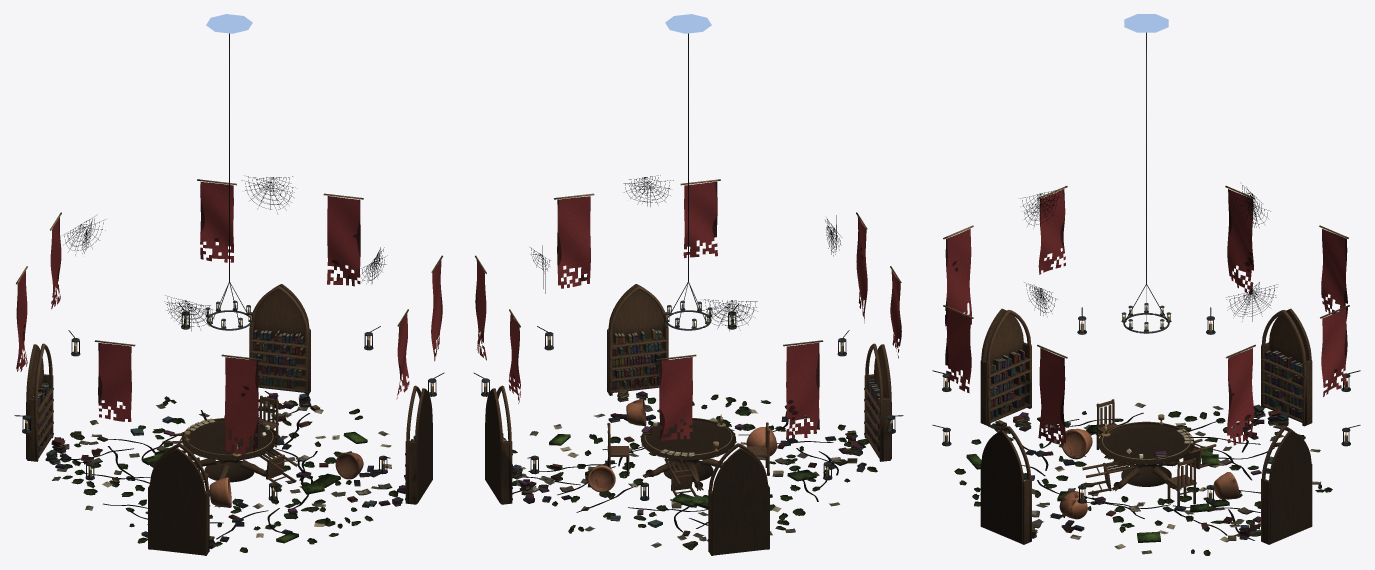
The model's file is SP04_Objetos (1).glb.
The picture shows the model from 3 angles, left to right: view 1: azimuth 30°, elevation 25°; view 2: azimuth 150°, elevation 25°; view 3: azimuth 270°, elevation 25°; orthographic projection.
Parts seen in each view (by area): view 1: OBJ_Obj_29_0, OBJ_Obj_28_0, OBJ_Obj_25_0, OBJ_Obj_26_1, OBJ_Obj_28_1, OBJ_Obj_27_1, OBJ_Obj_27_0, OBJ_Obj_26_0, OBJ_Teia_30_0, OBJ_EMIS_Oculo_RoofPanels, OBJ_Obj_25_1; view 2: OBJ_Obj_29_0, OBJ_Obj_28_0, OBJ_Obj_27_0, OBJ_Obj_28_1, OBJ_Obj_27_1, OBJ_Obj_26_0, OBJ_Obj_25_0, OBJ_Obj_26_1, OBJ_Obj_25_1, OBJ_Teia_30_0, OBJ_EMIS_Oculo_RoofPanels; view 3: OBJ_Obj_29_0, OBJ_Obj_28_0, OBJ_Obj_25_0, OBJ_Obj_27_0, OBJ_Obj_26_1, OBJ_Obj_28_1, OBJ_Obj_26_0, OBJ_Obj_27_1, OBJ_Teia_30_0, OBJ_EMIS_Oculo_RoofPanels, OBJ_Obj_25_1.
Boxes of the visible parts, left/top/right/bottom form: OBJ_Obj_29_0: left=16, top=179, right=442, bottom=507; OBJ_Obj_28_0: left=52, top=391, right=405, bottom=543; OBJ_Obj_25_0: left=148, top=443, right=209, bottom=555; OBJ_Obj_26_1: left=249, top=284, right=310, bottom=395; OBJ_Obj_28_1: left=56, top=395, right=398, bottom=552; OBJ_Obj_27_1: left=14, top=33, right=444, bottom=548; OBJ_Obj_27_0: left=26, top=343, right=53, bottom=461; OBJ_Obj_26_0: left=405, top=385, right=432, bottom=503; OBJ_Teia_30_0: left=64, top=176, right=387, bottom=331; OBJ_EMIS_Oculo_RoofPanels: left=206, top=14, right=252, bottom=33; OBJ_Obj_25_1: left=405, top=441, right=416, bottom=504; OBJ_Obj_29_0: left=475, top=179, right=901, bottom=492; OBJ_Obj_28_0: left=512, top=391, right=839, bottom=547; OBJ_Obj_27_0: left=708, top=443, right=769, bottom=555; OBJ_Obj_28_1: left=512, top=394, right=877, bottom=550; OBJ_Obj_27_1: left=473, top=33, right=903, bottom=547; OBJ_Obj_26_0: left=608, top=284, right=668, bottom=394; OBJ_Obj_25_0: left=864, top=343, right=891, bottom=461; OBJ_Obj_26_1: left=485, top=385, right=512, bottom=504; OBJ_Obj_25_1: left=607, top=324, right=668, bottom=395; OBJ_Teia_30_0: left=530, top=175, right=841, bottom=331; OBJ_EMIS_Oculo_RoofPanels: left=665, top=14, right=711, bottom=33; OBJ_Obj_29_0: left=943, top=186, right=1349, bottom=519; OBJ_Obj_28_0: left=966, top=402, right=1321, bottom=554; OBJ_Obj_25_0: left=980, top=308, right=1031, bottom=426; OBJ_Obj_27_0: left=1261, top=308, right=1312, bottom=426; OBJ_Obj_26_1: left=1261, top=426, right=1312, bottom=544; OBJ_Obj_28_1: left=954, top=399, right=1332, bottom=555; OBJ_Obj_26_0: left=980, top=426, right=1031, bottom=544; OBJ_Obj_27_1: left=932, top=32, right=1360, bottom=540; OBJ_Teia_30_0: left=1020, top=182, right=1277, bottom=321; OBJ_EMIS_Oculo_RoofPanels: left=1124, top=14, right=1168, bottom=32; OBJ_Obj_25_1: left=980, top=464, right=1031, bottom=544.
Size of the model in its own units: 29.67 by 34.85 by 29.67.
8 materials, 6 textured.
